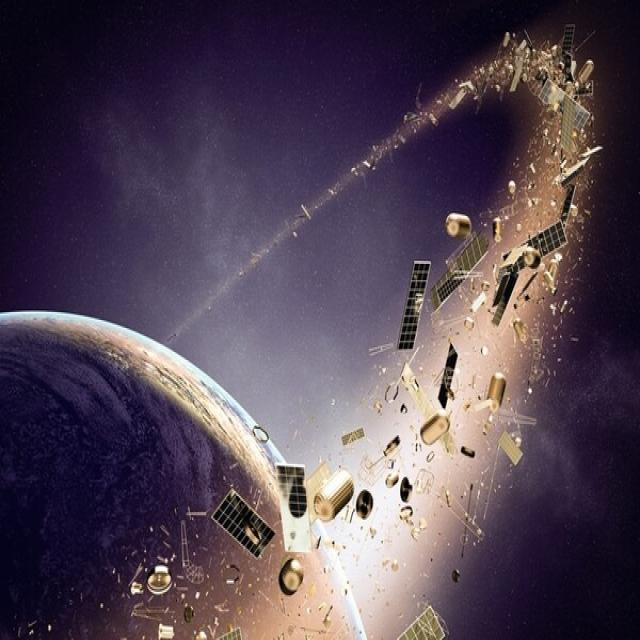large_debris: (489, 218, 569, 329), (390, 339, 461, 462), (428, 223, 491, 314), (435, 470, 490, 572), (535, 74, 596, 162), (471, 362, 541, 438), (210, 482, 278, 558), (273, 457, 313, 560), (397, 254, 433, 356), (314, 465, 356, 530), (393, 595, 450, 640), (437, 334, 459, 408), (275, 554, 308, 596), (146, 560, 175, 600), (443, 209, 474, 243), (354, 482, 376, 523), (339, 424, 367, 456), (154, 619, 186, 640), (399, 472, 415, 508)
